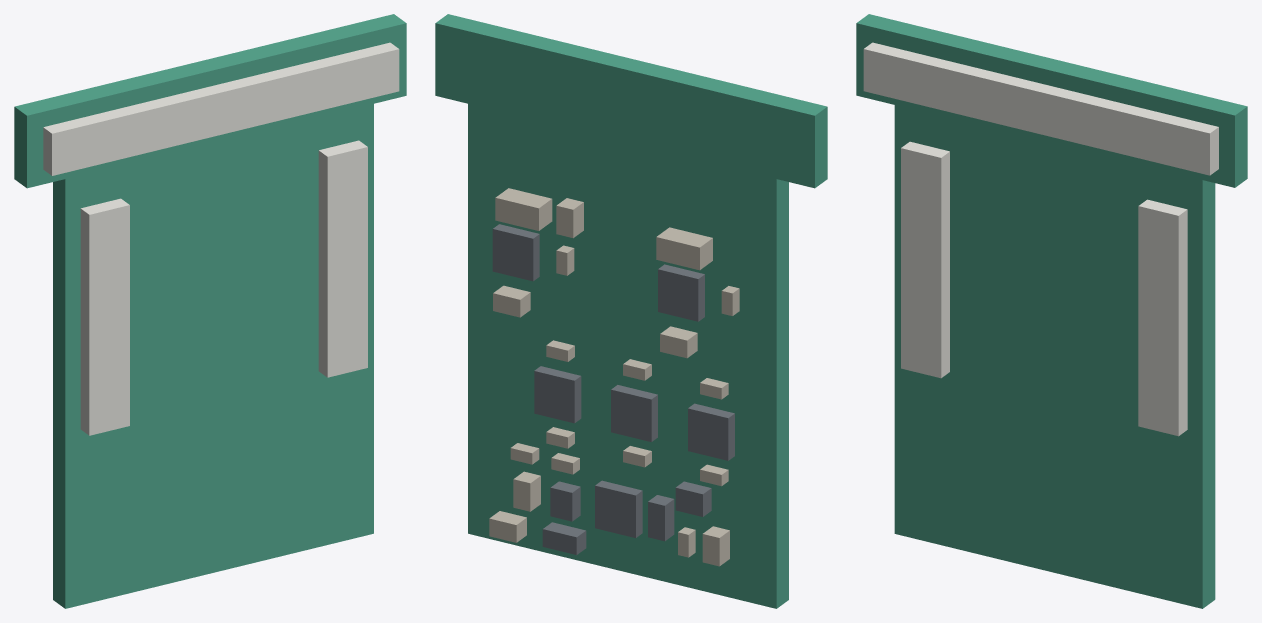
Rendered from Option_B_V2_FE_V7_part_0.glb.
3 views of the same model, side by side, from view 1: azimuth 30°, elevation 25°; view 2: azimuth 150°, elevation 25°; view 3: azimuth 330°, elevation 25° (orthographic).
Visible parts, largest first — view 1: board, conn; view 2: board, ic, passive; view 3: board, conn.
Part boxes in pixels (x1,y1,x2,y2): board: (14,14,406,608); conn: (43,42,399,435); board: (435,14,827,608); ic: (492,224,734,554); passive: (489,188,739,566); board: (856,14,1247,608); conn: (863,42,1218,436).
Size of the model in its own units: 27.9 by 35.3 by 4.42.
